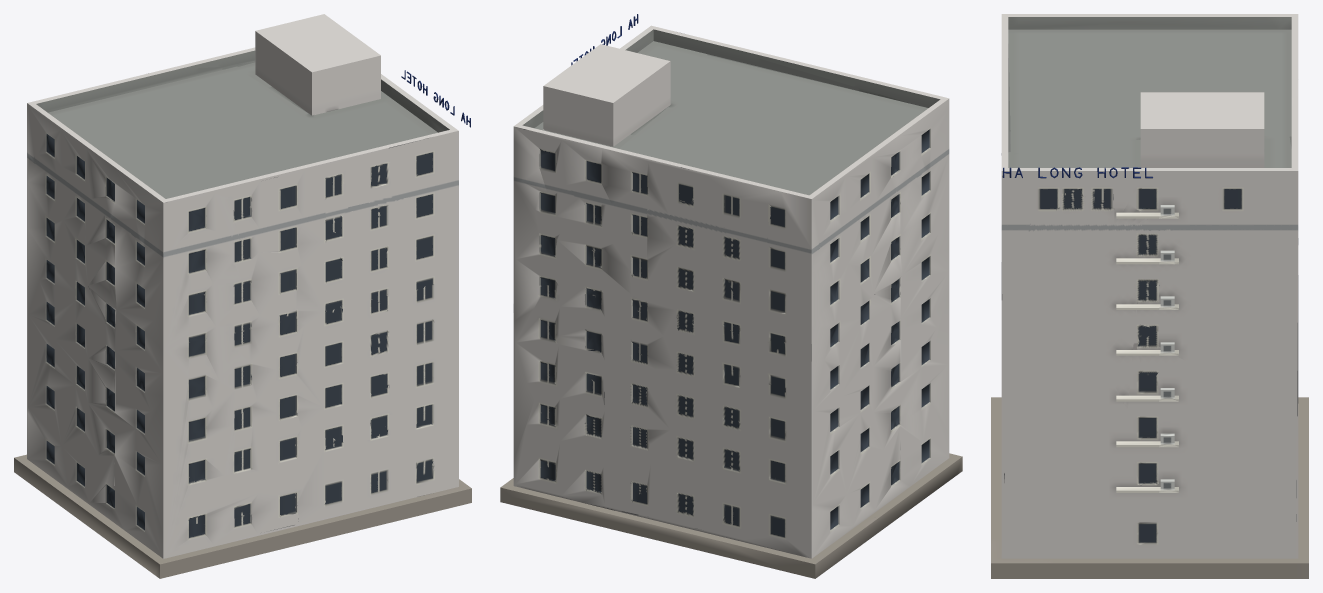
Rendered from nha_khach_ha_long.mid.glb.
3 renders of one model, left to right at view 1: azimuth 30°, elevation 25°; view 2: azimuth 150°, elevation 25°; view 3: azimuth 270°, elevation 25°, orthographic. The views are drawn at different scales.
Visible parts, largest first — view 1: nha_khach_ha_long; view 2: nha_khach_ha_long; view 3: nha_khach_ha_long.
Part boxes in pixels (x1=…): nha_khach_ha_long: x1=14, y1=14, x2=471, y2=578; nha_khach_ha_long: x1=500, y1=14, x2=962, y2=578; nha_khach_ha_long: x1=991, y1=14, x2=1308, y2=578.
Bounding box in the file's own units: 22.9 × 27.8 × 18.27.
3 materials, 3 textured.
